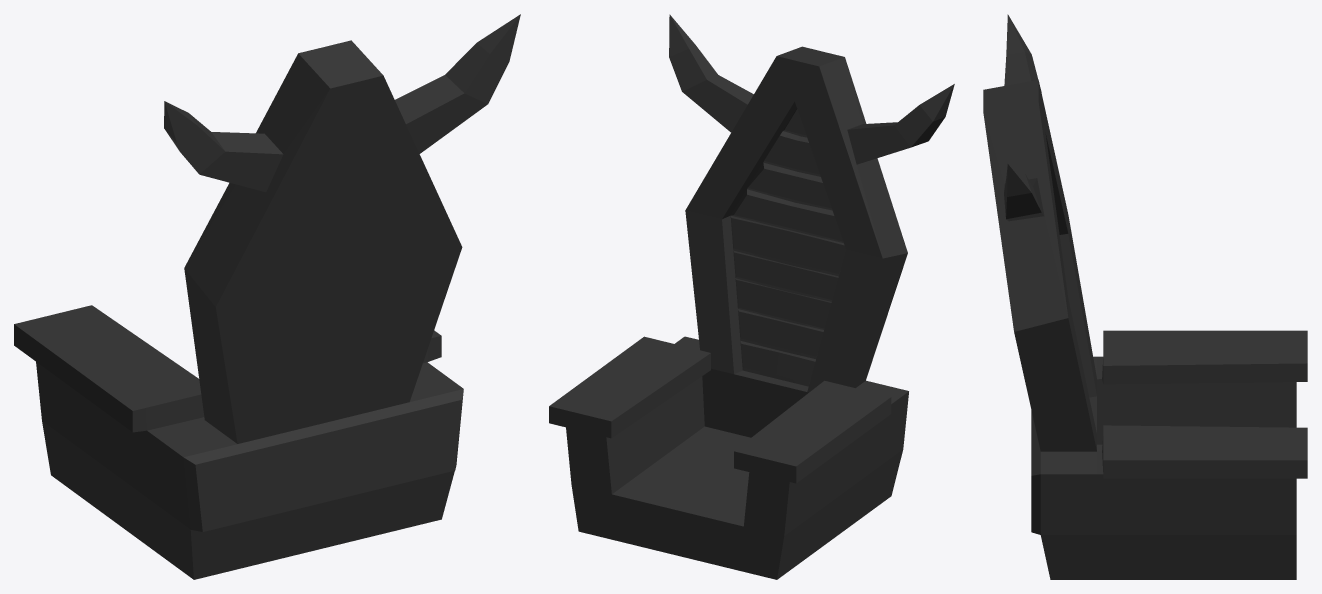
Rendered from OrcThrone.fbx.
The picture shows the model from 3 angles, left to right: view 1: azimuth 30°, elevation 25°; view 2: azimuth 150°, elevation 25°; view 3: azimuth 270°, elevation 25°; orthographic projection. The views are drawn at different scales.
Parts seen in each view (by area): view 1: OrcThrone; view 2: OrcThrone; view 3: OrcThrone.
Boxes of the visible parts, bbox=[...] form: OrcThrone: bbox=[14, 14, 520, 579]; OrcThrone: bbox=[549, 14, 954, 579]; OrcThrone: bbox=[983, 14, 1307, 579].
Bounding box in the file's own units: 0.5645 × 0.5171 × 0.7724.
